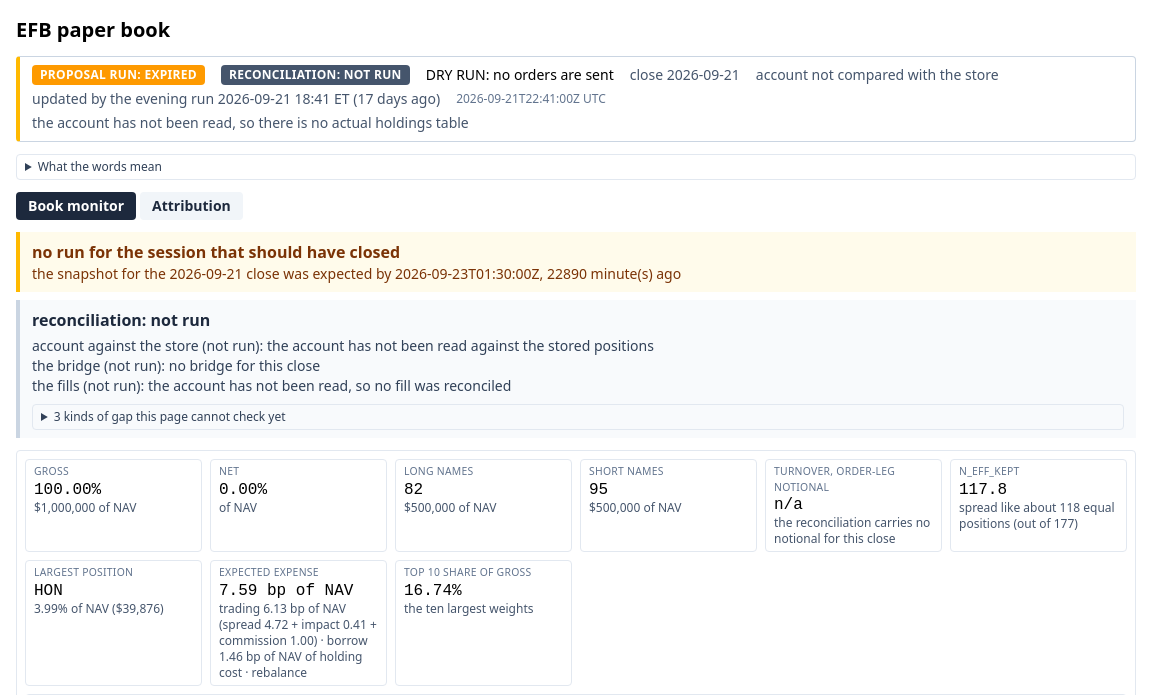
the attribution section › shows what the hedge removed, not only the split it left
This screenshot has width=1152, height=695.
Click the tab "Attribution".
click(191, 206)  # box top-left (140, 192), bottom-right (243, 220)
(page scrolled)
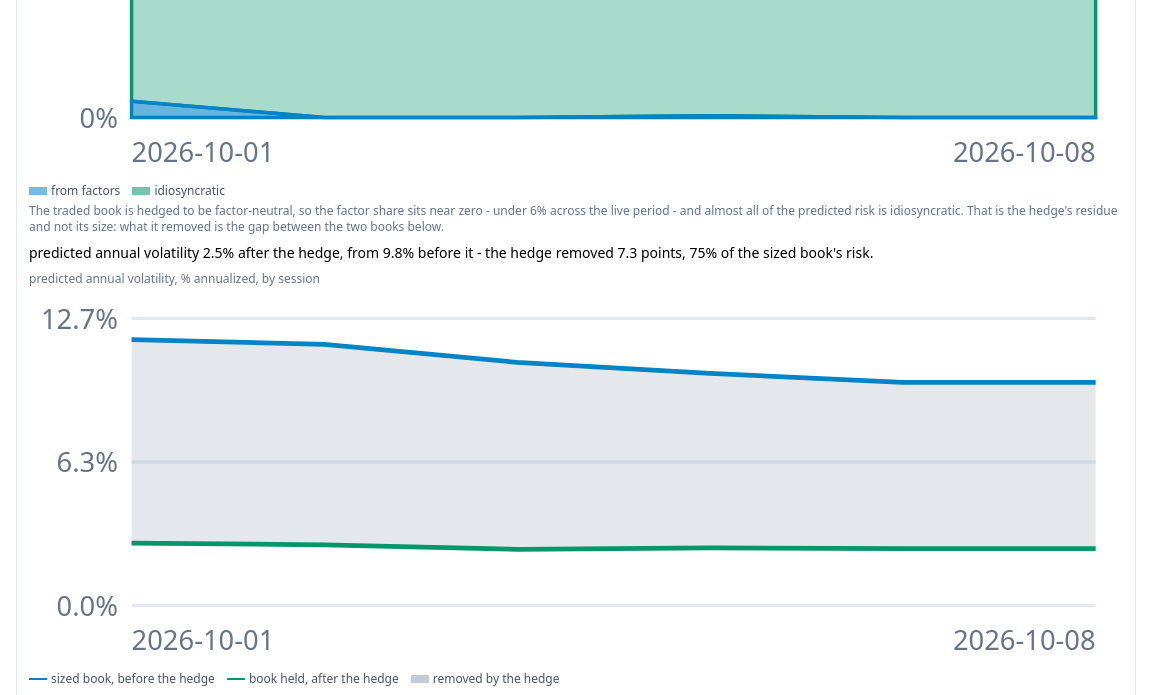
Result: the text "the hedge removed" is shown at top-left (473, 243), bottom-right (870, 262)
Result: the element named "0.0%6.3%12.7%2026-10-012026-10-08" is shown at top-left (29, 271), bottom-right (1123, 687)
